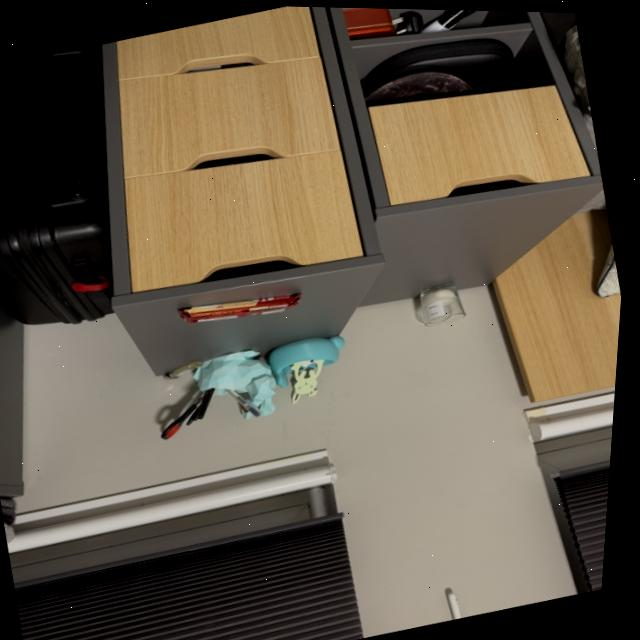chocolate: (174, 276, 313, 337)
